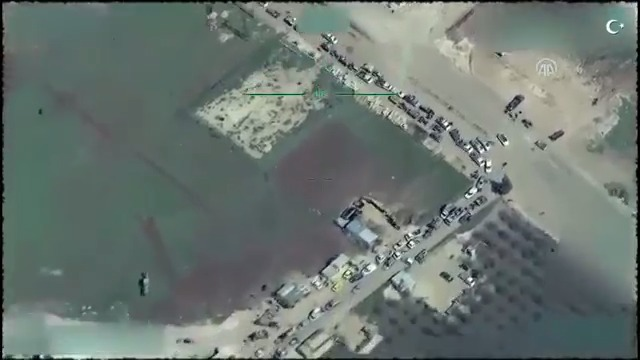arac: (435, 199, 455, 219), (356, 67, 376, 83), (326, 296, 341, 313), (462, 184, 478, 199), (483, 157, 497, 172)
